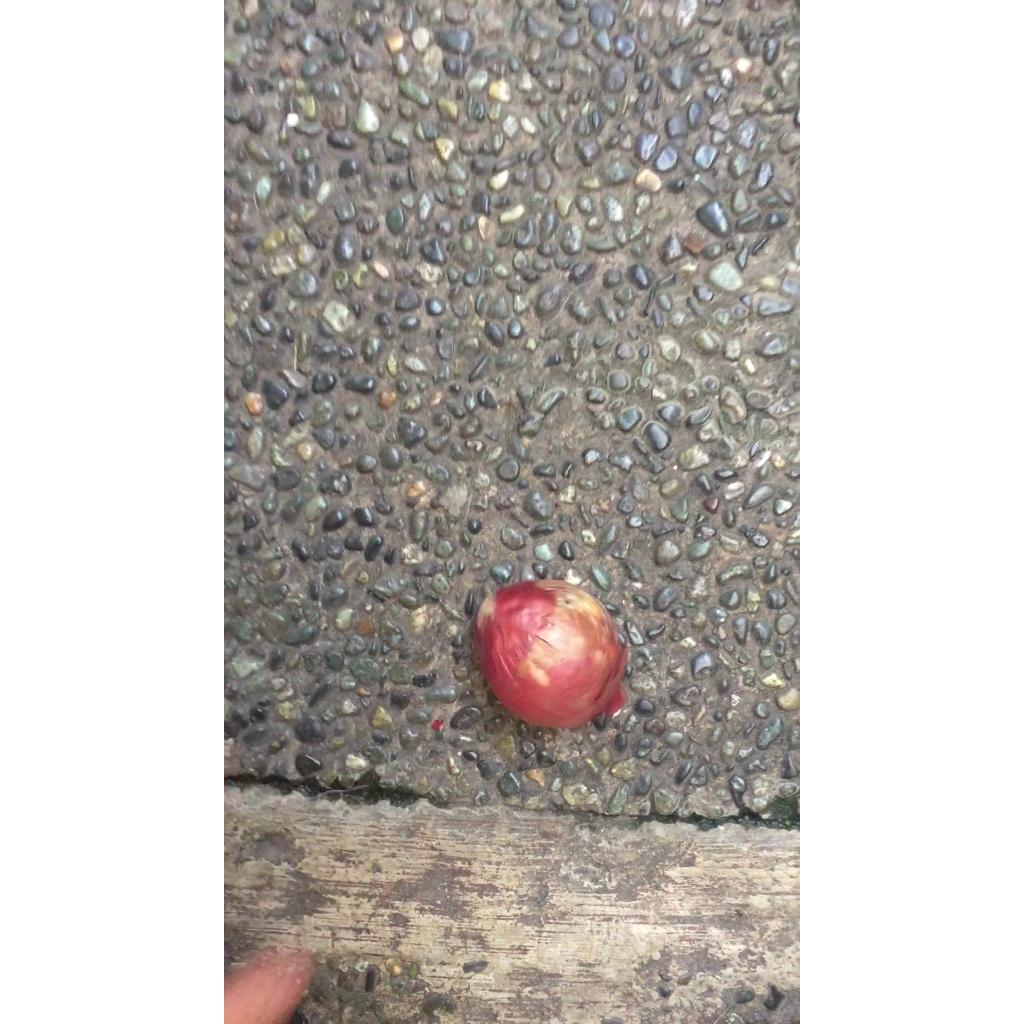Onion: (474, 581, 627, 729)
